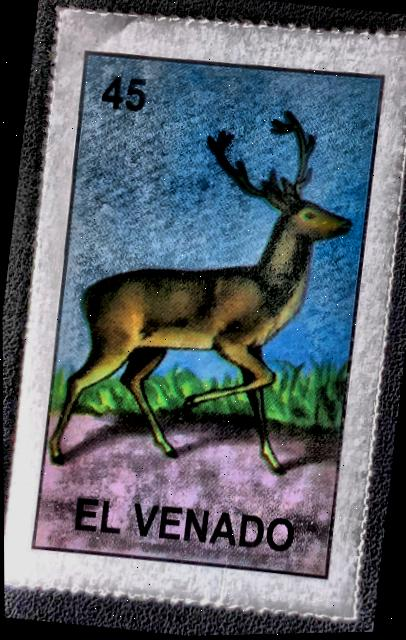El Venado: (0, 18, 406, 609)
